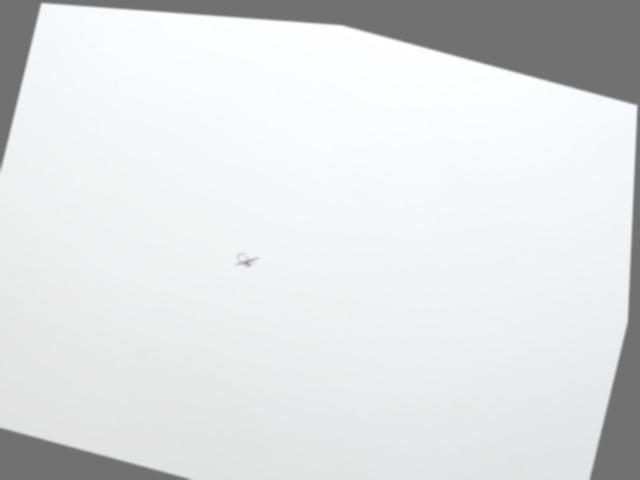plane: (235, 245, 263, 271)
